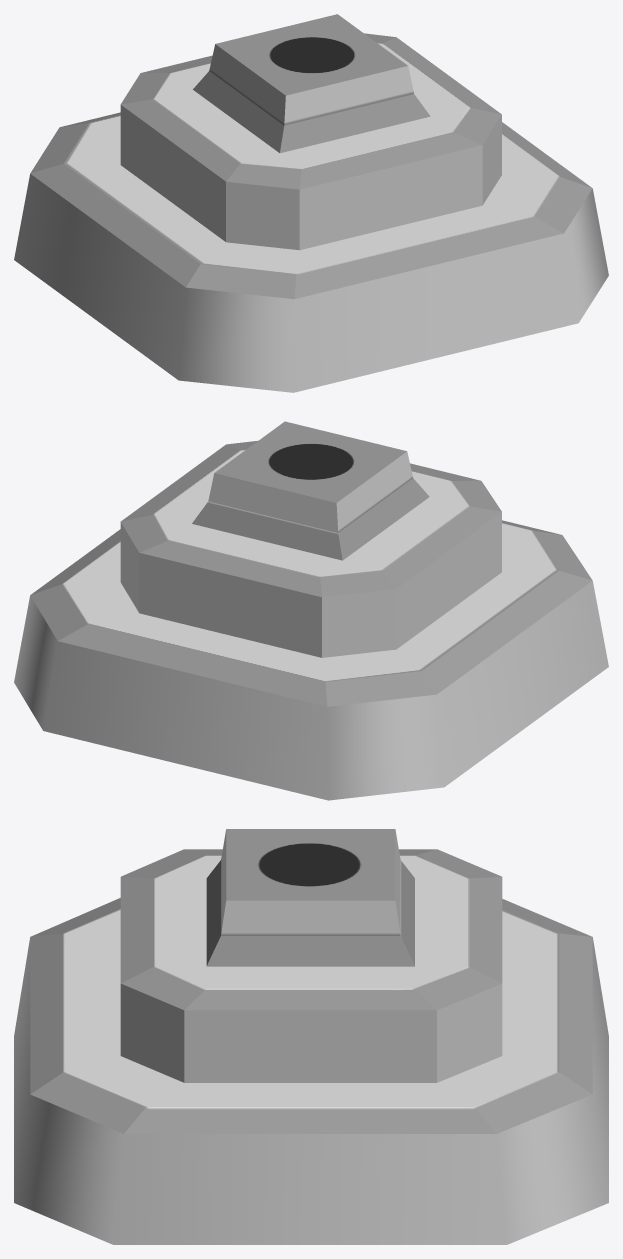
Rendered from MissilePort.fbx.
The picture shows the model from 3 angles, top to bottom: view 1: azimuth 30°, elevation 25°; view 2: azimuth 150°, elevation 25°; view 3: azimuth 270°, elevation 25°; orthographic projection. The views are drawn at different scales.
Parts seen in each view (by area): view 1: MissilePod_Body; view 2: MissilePod_Body; view 3: MissilePod_Body.
Part boxes in pixels (x1,y1,x2,y2): MissilePod_Body: (14, 14, 608, 392); MissilePod_Body: (14, 421, 608, 800); MissilePod_Body: (14, 829, 608, 1244).
Bounding box in the file's own units: 45 × 21.24 × 45.
